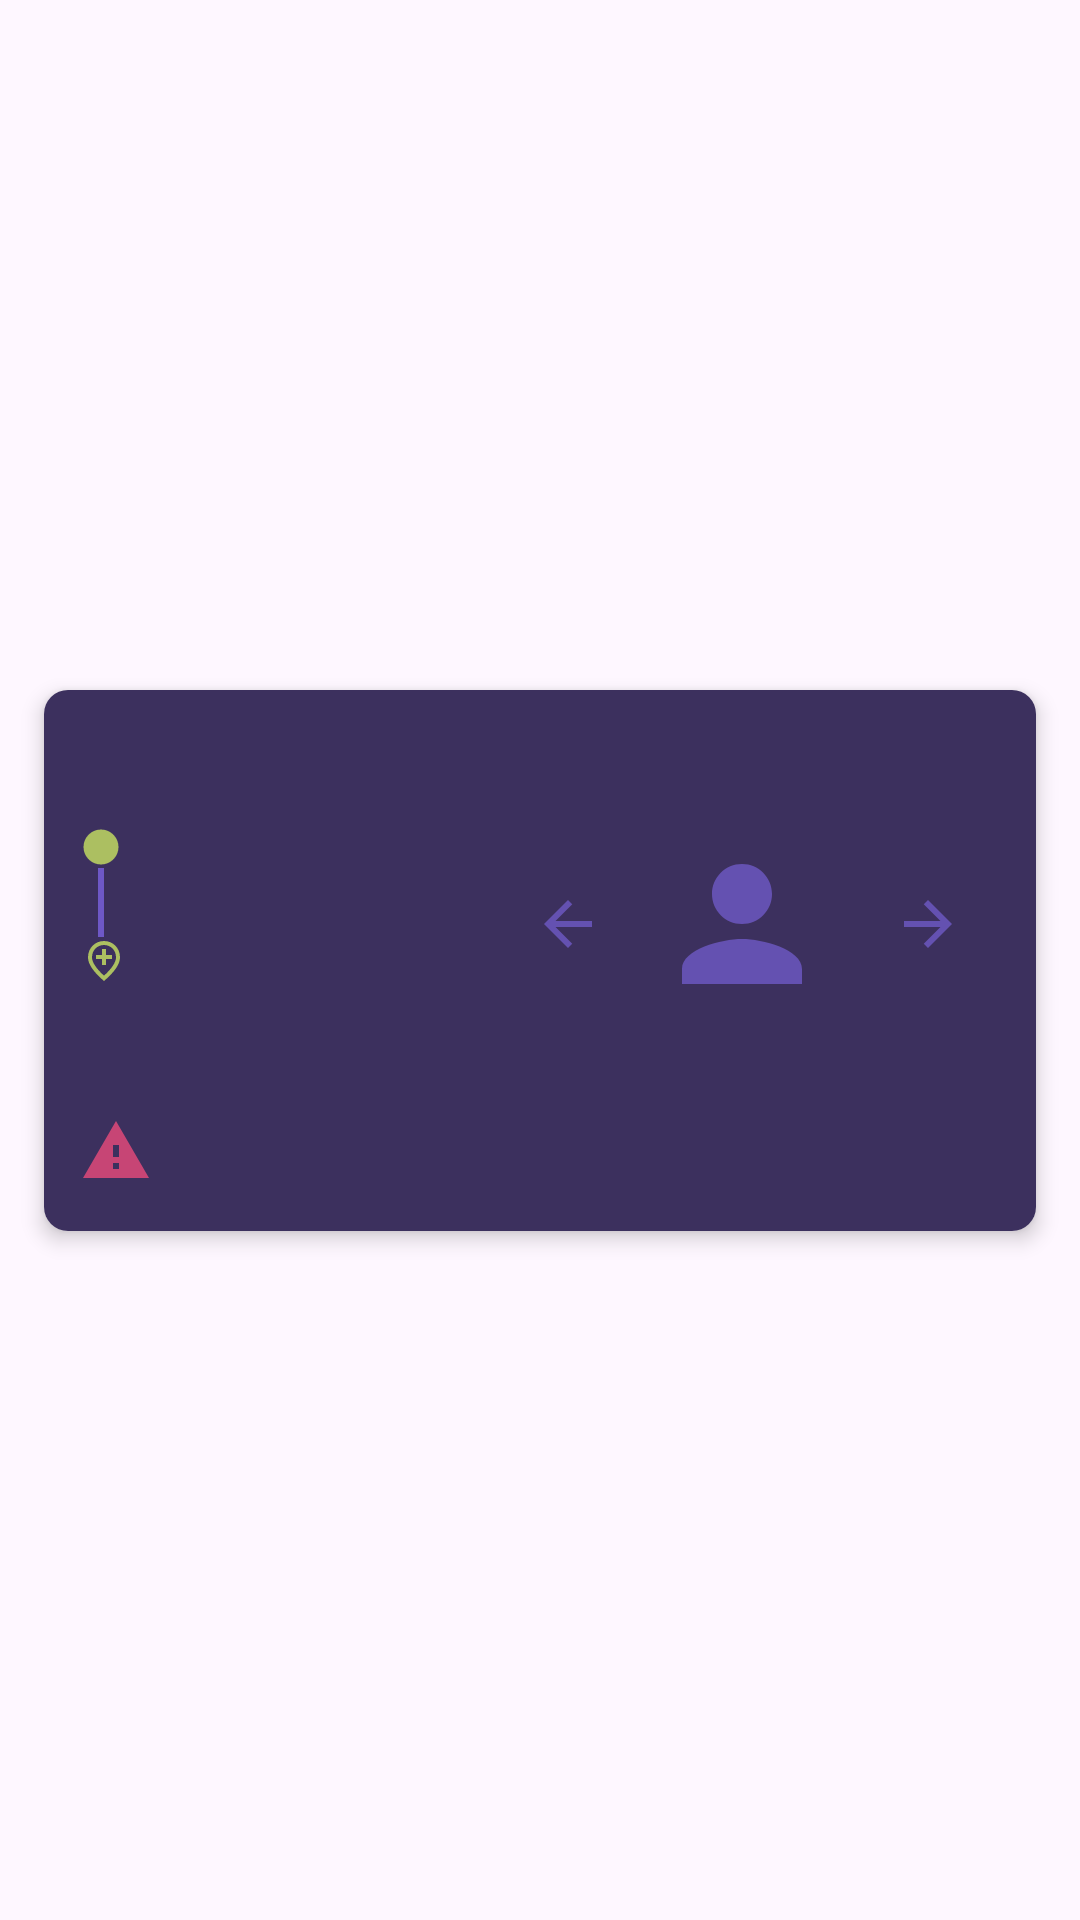

Icons on this 1080 × 1920 Android screen, each with the point to tap as (x,y):
Next: (928,924)
Previous: (568,924)
warning: (116,1149)
